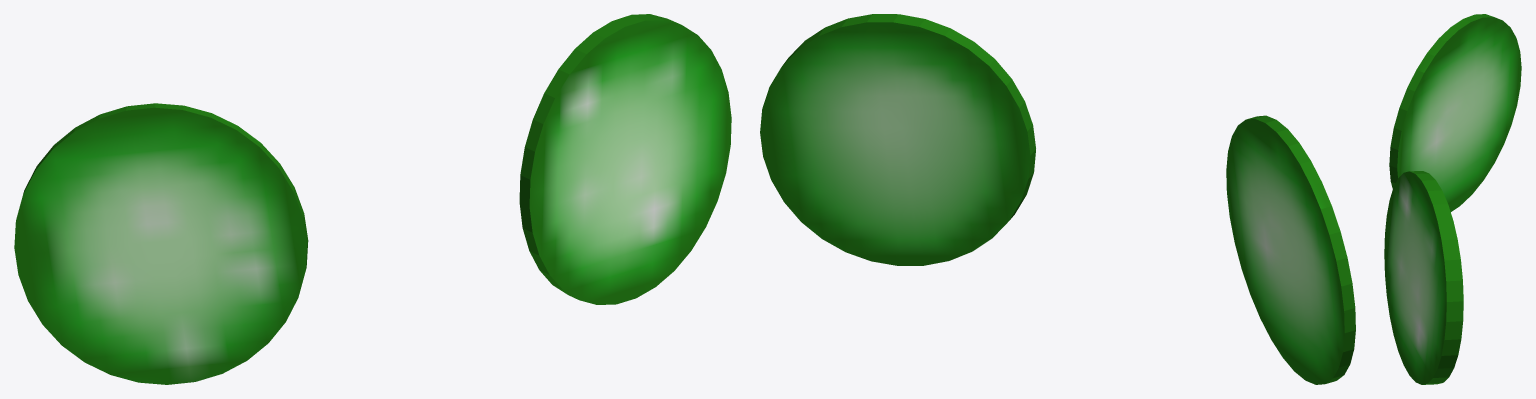
3 views of the same model, side by side, from view 1: azimuth 30°, elevation 25°; view 2: azimuth 150°, elevation 25°; view 3: azimuth 270°, elevation 25° (orthographic). The views are drawn at different scales.
Visible parts, largest first — view 1: 黄瓜; view 2: 黄瓜; view 3: 黄瓜.
Part boxes in pixels (<box>): 黄瓜: <box>14,14,731,384</box>; 黄瓜: <box>760,14,1355,384</box>; 黄瓜: <box>1384,14,1521,384</box>.
Size of the model in its own units: 0.3733 by 0.1451 by 0.0907.
